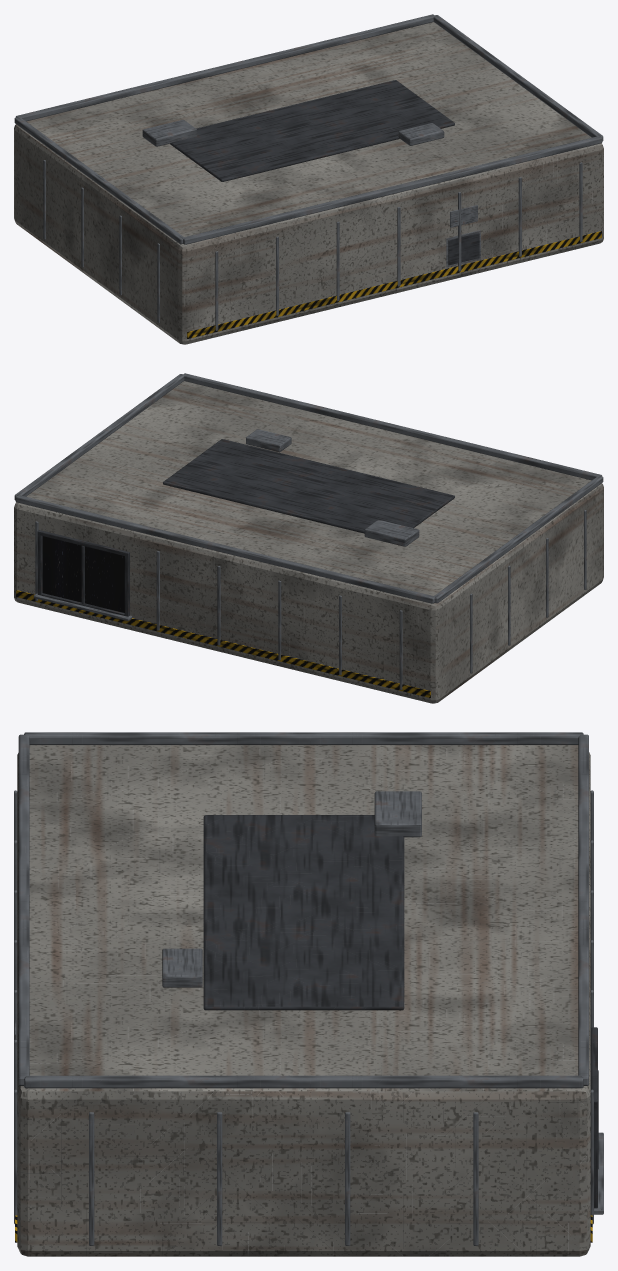
File: ship_upper_superstructure.glb
The picture shows the model from 3 angles, top to bottom: view 1: azimuth 30°, elevation 25°; view 2: azimuth 150°, elevation 25°; view 3: azimuth 270°, elevation 25°; orthographic projection. The views are drawn at different scales.
Visible parts, largest first — view 1: UpperSuperstructure, RoofSpine, RoofRimF, RoofRimA, HazardAft, RoofRimL, RoofRimR, VentA, ServiceHatch, VentB; view 2: UpperSuperstructure, RoofSpine, WindowGlass, RoofRimA, RoofRimF, HazardFore, RoofRimL, RoofRimR, VentA, VentB, WindowFrameT, WindowSill; view 3: UpperSuperstructure, RoofSpine, RoofRimR, RoofRimL, RoofRimF, RoofRimA, VentA, VentB, RibSideR_03, RibSideR_00, RibSideR_01, RibSideR_02.
Part boxes in pixels (x1,y1,x2,y2): UpperSuperstructure: [14, 22, 603, 344]; RoofSpine: [170, 80, 454, 181]; RoofRimF: [183, 136, 602, 244]; RoofRimA: [15, 14, 434, 121]; HazardAft: [187, 231, 601, 338]; RoofRimL: [14, 117, 183, 244]; RoofRimR: [433, 15, 603, 141]; VentA: [142, 119, 197, 146]; ServiceHatch: [448, 232, 479, 265]; VentB: [398, 123, 444, 145]; UpperSuperstructure: [14, 381, 603, 703]; RoofSpine: [163, 439, 454, 533]; WindowGlass: [42, 536, 124, 612]; RoofRimA: [15, 495, 434, 603]; RoofRimF: [183, 373, 602, 480]; HazardFore: [16, 590, 430, 697]; RoofRimL: [434, 476, 603, 603]; RoofRimR: [14, 374, 184, 500]; VentA: [364, 519, 419, 546]; VentB: [246, 429, 291, 452]; WindowFrameT: [38, 530, 128, 556]; WindowSill: [33, 593, 132, 620]; UpperSuperstructure: [17, 745, 590, 1256]; RoofSpine: [203, 815, 404, 1010]; RoofRimR: [24, 1075, 583, 1088]; RoofRimL: [24, 732, 583, 744]; RoofRimF: [18, 734, 29, 1085]; RoofRimA: [578, 734, 588, 1085]; VentA: [374, 791, 421, 837]; VentB: [162, 948, 202, 987]; RibSideR_03: [473, 1112, 478, 1245]; RibSideR_00: [89, 1112, 94, 1245]; RibSideR_01: [217, 1112, 222, 1245]; RibSideR_02: [345, 1112, 350, 1245].
Size of the model in its own units: 12.35 by 3.07 by 8.75.
5 materials, 5 textured.
